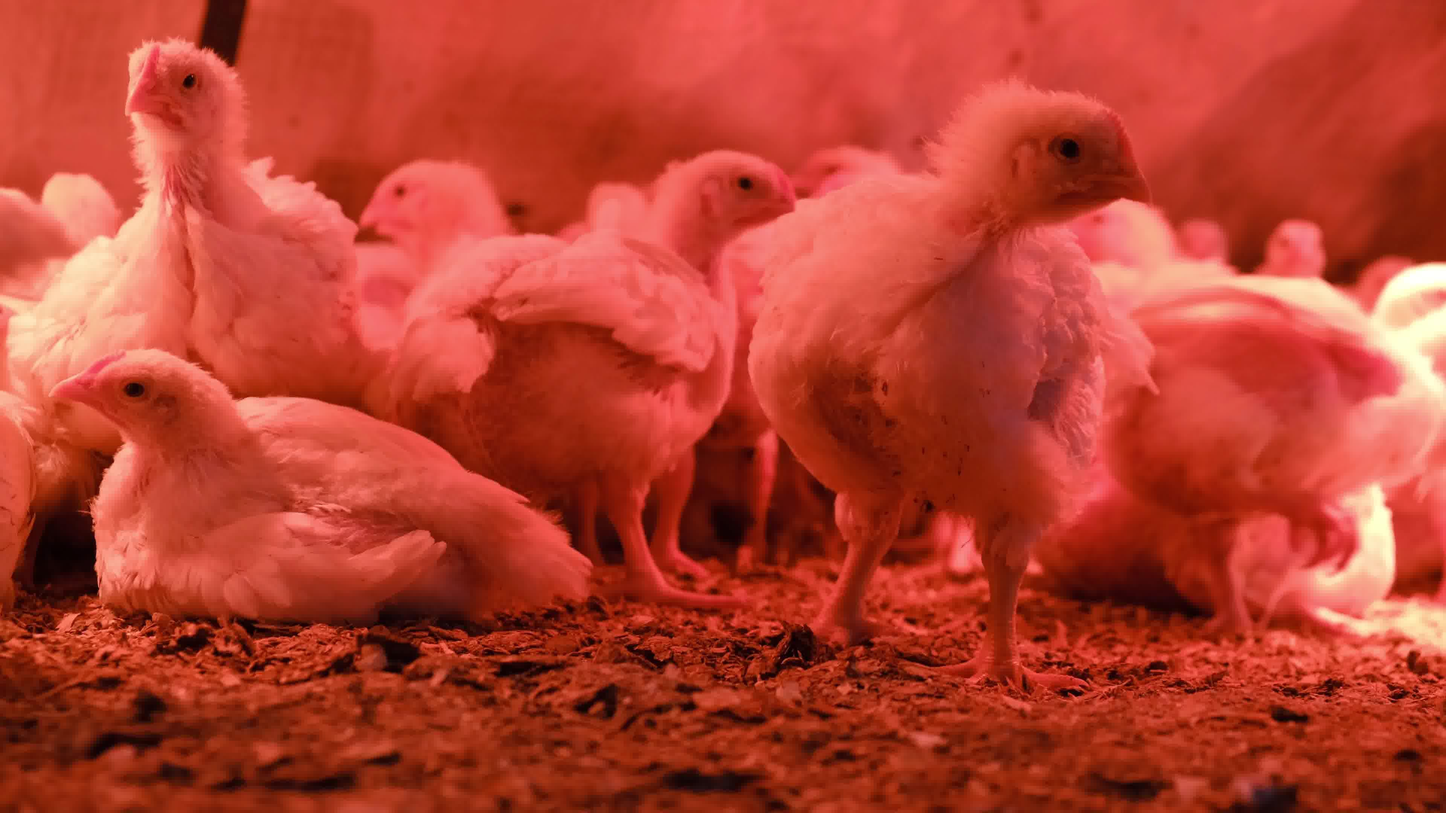AbNormal: (9, 343, 608, 617)
Normal: (747, 87, 1175, 685), (403, 143, 798, 610), (1107, 252, 1446, 657), (38, 26, 390, 339), (329, 119, 529, 250), (1220, 198, 1359, 297)
